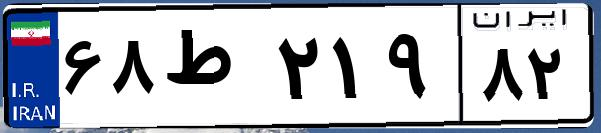1: (330, 28, 385, 110)
2: (270, 28, 330, 110), (525, 38, 570, 115)
6: (57, 26, 110, 100)
8: (475, 38, 525, 113), (110, 28, 158, 98)
9: (385, 28, 445, 110)
ط: (158, 20, 270, 120)
